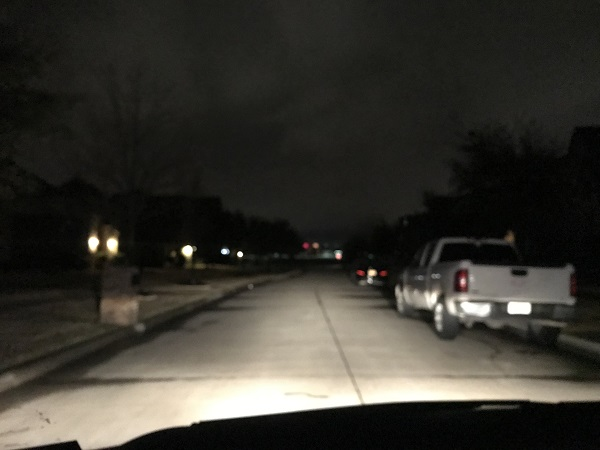car: (346, 253, 391, 290)
truck: (395, 232, 584, 344)
